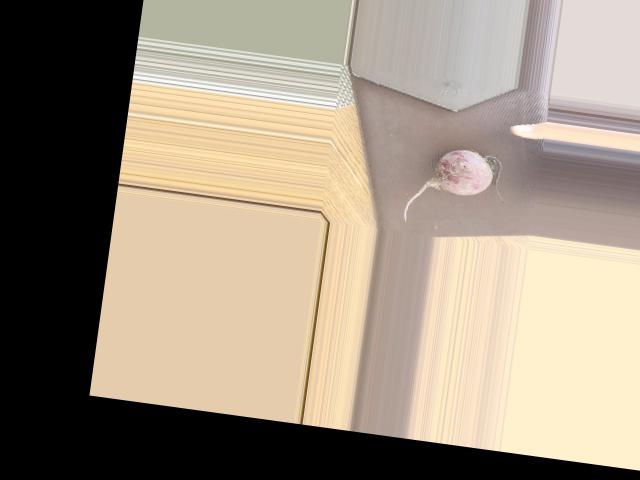beet: (402, 142, 510, 233)
